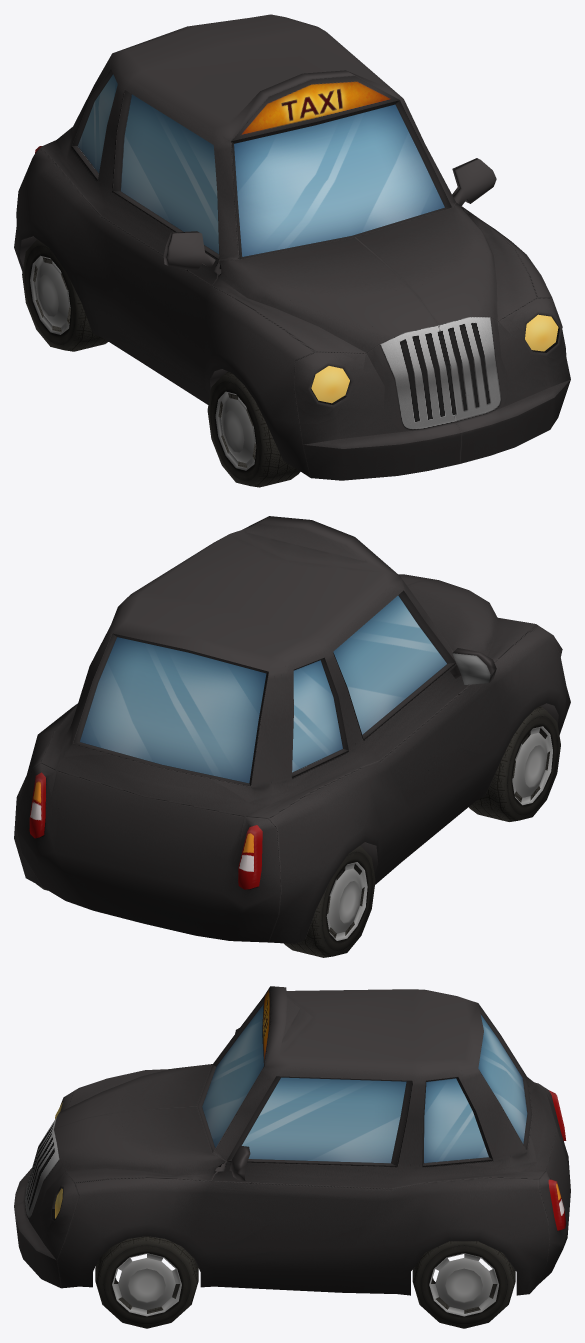
File: Taxi.fbx
3 renders of one model, top to bottom at view 1: azimuth 30°, elevation 25°; view 2: azimuth 150°, elevation 25°; view 3: azimuth 270°, elevation 25°, orthographic. The views are drawn at different scales.
Visible parts, largest first — view 1: Taxi, Wheel3, Wheel4, TaxiM1, TaxiM2; view 2: Taxi, Wheel3, Wheel4, TaxiM1; view 3: Taxi, Wheel1, Wheel2, TaxiM2.
Boxes of the visible parts, bbox=[...] form: Taxi: bbox=[14, 14, 570, 480]; Wheel3: bbox=[207, 371, 300, 487]; Wheel4: bbox=[22, 239, 108, 351]; TaxiM1: bbox=[163, 231, 215, 270]; TaxiM2: bbox=[452, 158, 496, 206]; Taxi: bbox=[14, 516, 570, 943]; Wheel3: bbox=[469, 706, 560, 821]; Wheel4: bbox=[284, 846, 375, 957]; TaxiM1: bbox=[450, 648, 496, 684]; Taxi: bbox=[14, 986, 570, 1295]; Wheel1: bbox=[95, 1236, 198, 1328]; Wheel2: bbox=[412, 1241, 515, 1328]; TaxiM2: bbox=[229, 1145, 250, 1180].
Size of the model in its own units: 6.63 by 6.14 by 11.43.
Materials: 2 (2 with a texture image).
